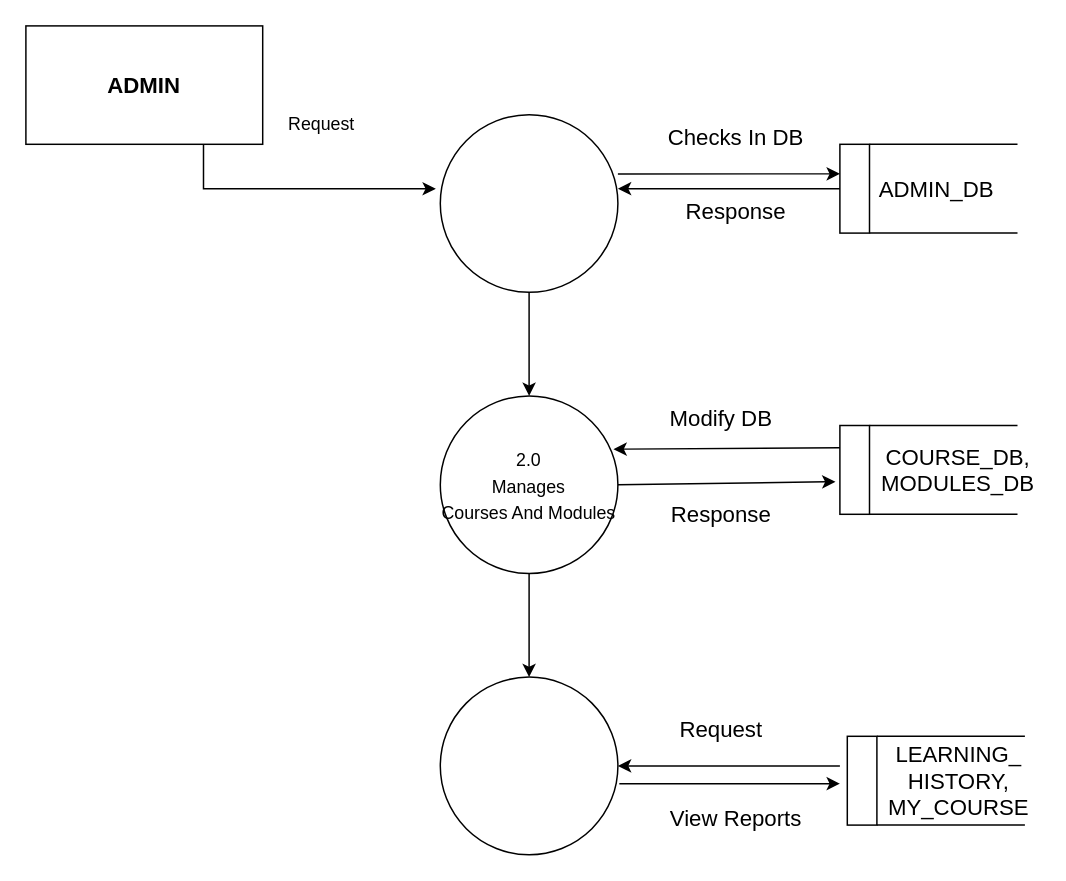
This 1066x881 diagram has some shape labels left out. The centre of each missing label's shape, as x and y in pixels:
1.0 Login: point 528,202
3.0 View Reports: point 528,765
